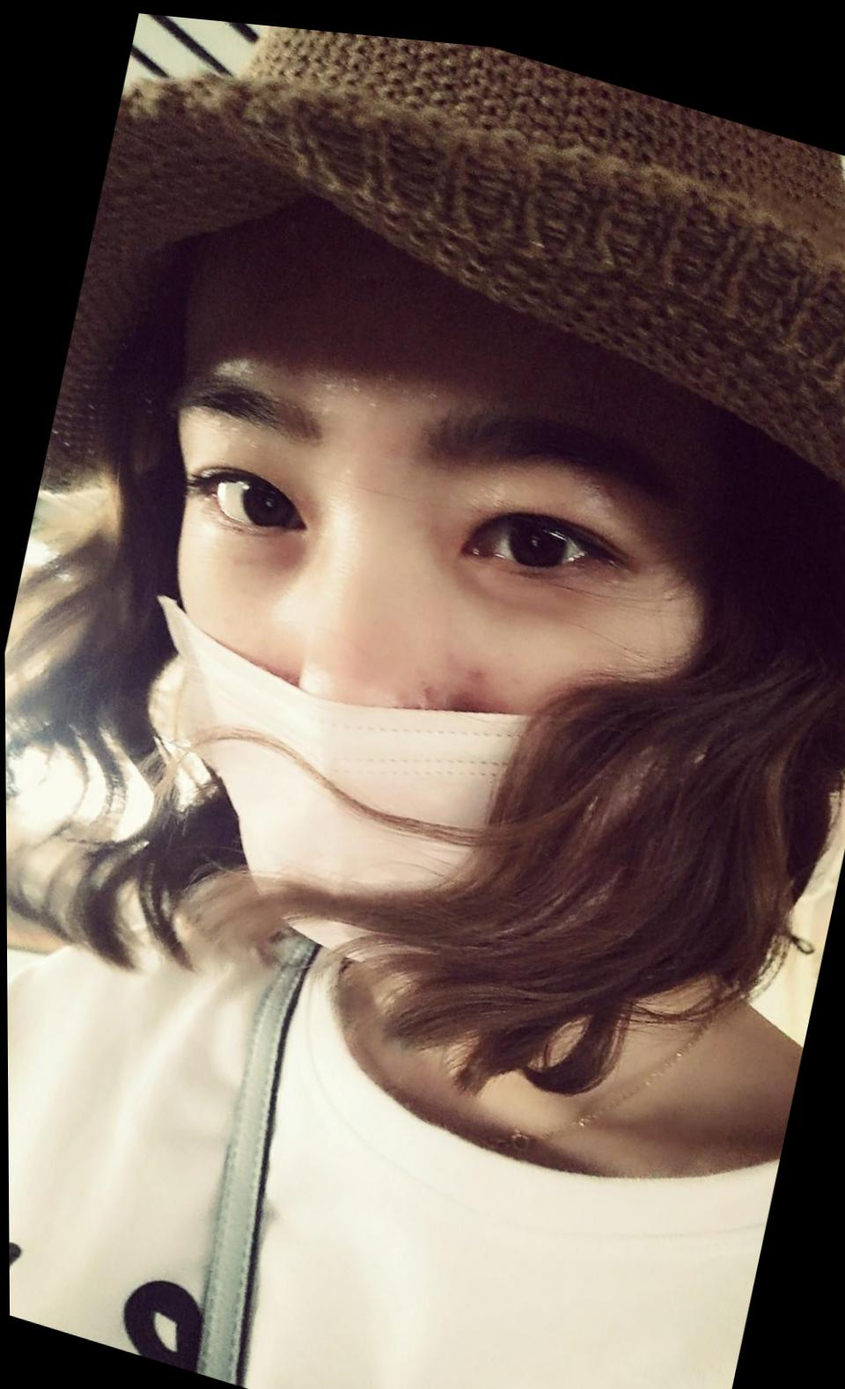WRONG: (65, 238, 827, 1070)
